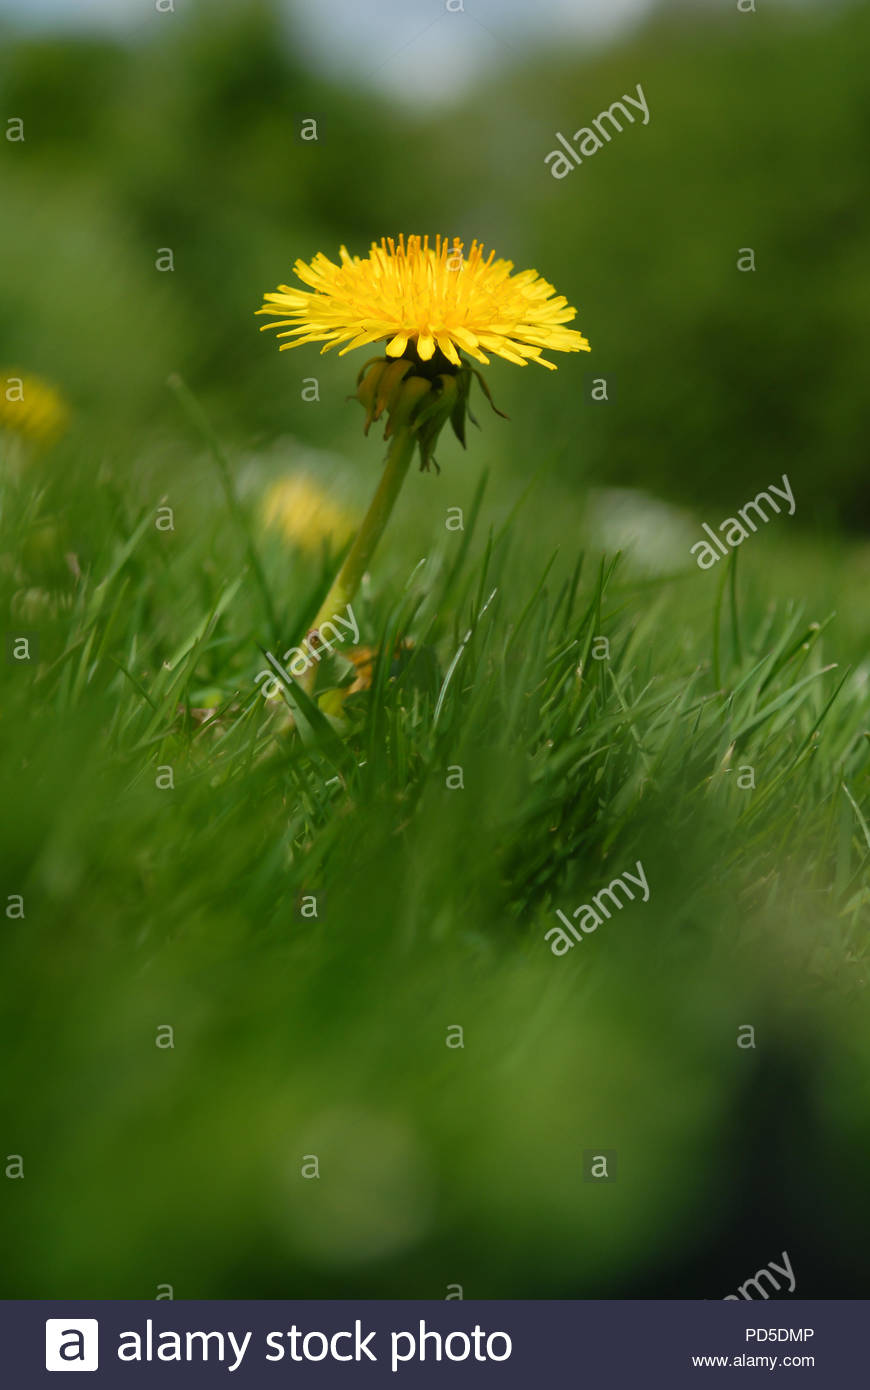dandelion: (258, 233, 598, 376)
